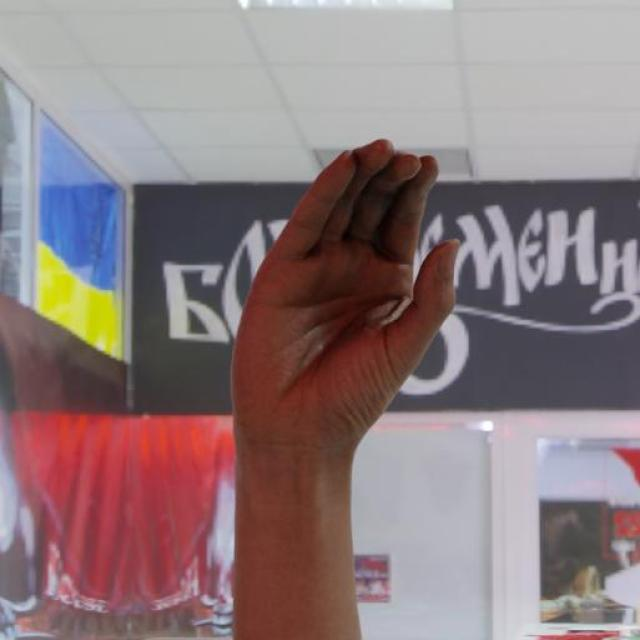C: (225, 134, 465, 451)
